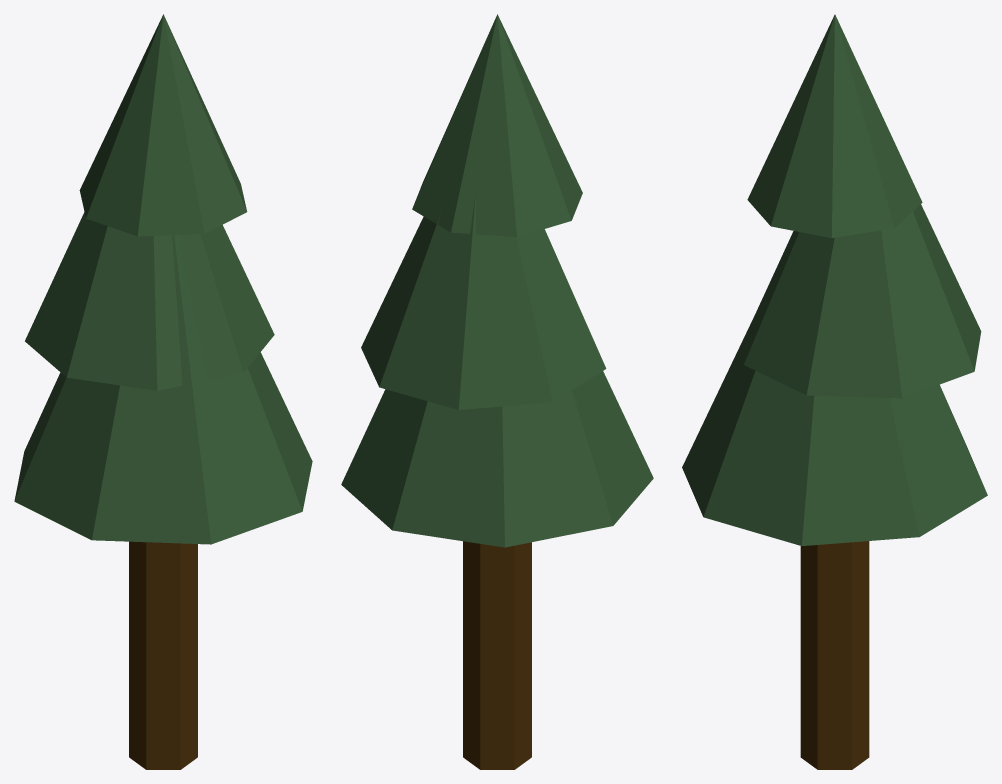
File: pine.glb
3 renders of one model, left to right at view 1: azimuth 30°, elevation 25°; view 2: azimuth 150°, elevation 25°; view 3: azimuth 270°, elevation 25°, orthographic.
Visible parts, largest first — view 1: Cone, Cone.001, Cone.002, Cylinder; view 2: Cone, Cone.001, Cone.002, Cylinder; view 3: Cone, Cone.001, Cone.002, Cylinder.
Boxes of the visible parts, <box> form: Cone: <box>14,235,312,544</box>; Cone.001: <box>25,212,274,390</box>; Cone.002: <box>79,14,247,236</box>; Cylinder: <box>129,541,197,769</box>; Cone: <box>341,371,653,547</box>; Cone.001: <box>361,194,606,409</box>; Cone.002: <box>412,14,582,237</box>; Cylinder: <box>463,541,531,769</box>; Cone: <box>682,231,987,545</box>; Cone.001: <box>744,199,981,398</box>; Cone.002: <box>747,14,922,238</box>; Cylinder: <box>800,541,869,769</box>.
Size of the model in its own units: 4 by 10.71 by 4.
